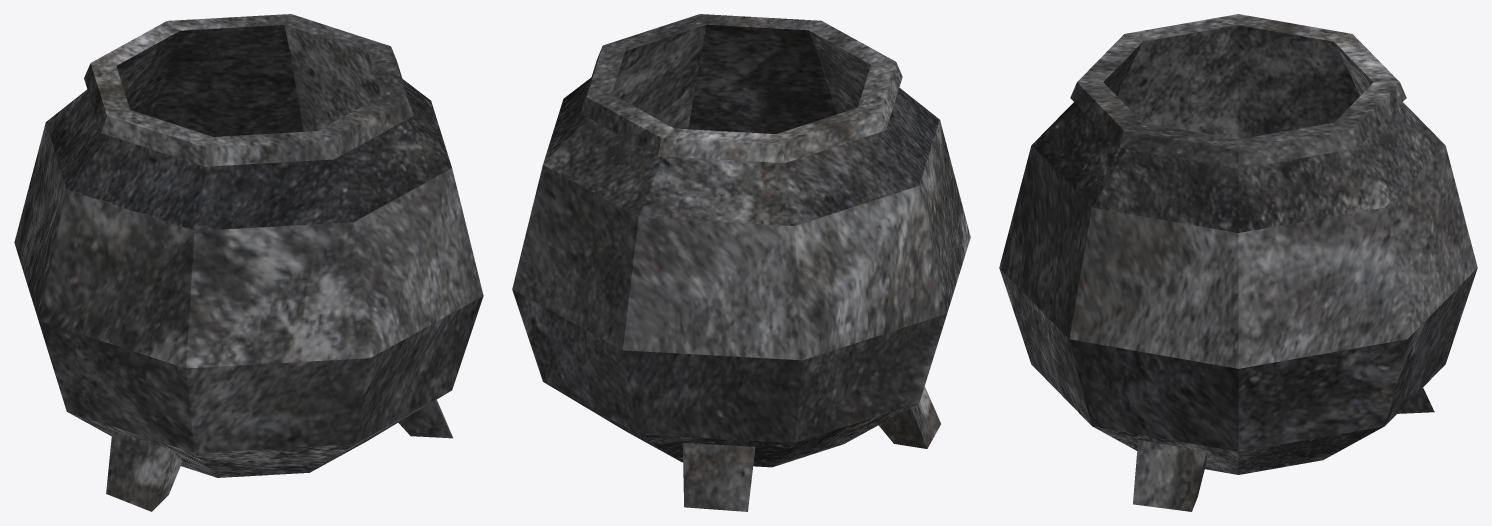
File: Cauldron.fbx
3 views of the same model, side by side, from view 1: azimuth 30°, elevation 25°; view 2: azimuth 150°, elevation 25°; view 3: azimuth 270°, elevation 25° (orthographic). The views are drawn at different scales.
Visible parts, largest first — view 1: Caludron; view 2: Caludron; view 3: Caludron.
Boxes of the visible parts, x1,y1,x2,y2 form: Caludron: (14,14,483,511); Caludron: (512,14,970,511); Caludron: (999,14,1477,511).
Size of the model in its own units: 38.24 by 31.11 by 38.24.
Materials: 1 (1 with a texture image).
